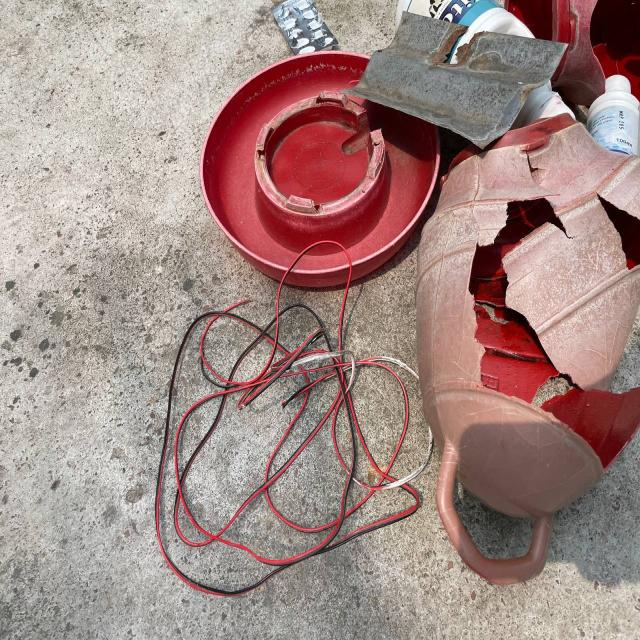Cable: (151, 301, 429, 609)
Medical Waste: (269, 0, 368, 54)
Metal: (348, 1, 560, 145)
Plastics: (438, 141, 639, 580), (172, 69, 392, 256)
